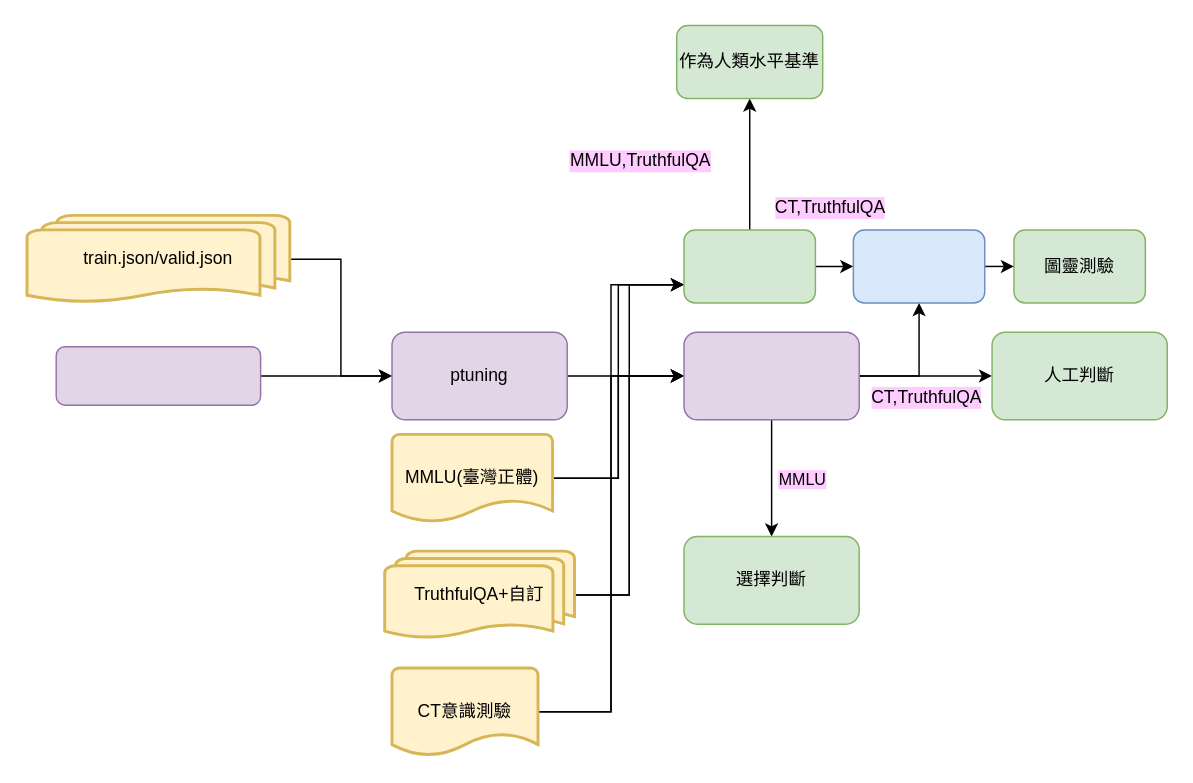
The diagram is 1193 pixels wide and 783 high, and some of its shapes have lost their labels. Each missing label, with the box of its shape:
ChatGLM-6b預訓練模型: (55, 345, 261, 405)
人類作答: (683, 228, 815, 303)
混雜: (852, 228, 985, 303)
生成: (683, 331, 859, 420)
